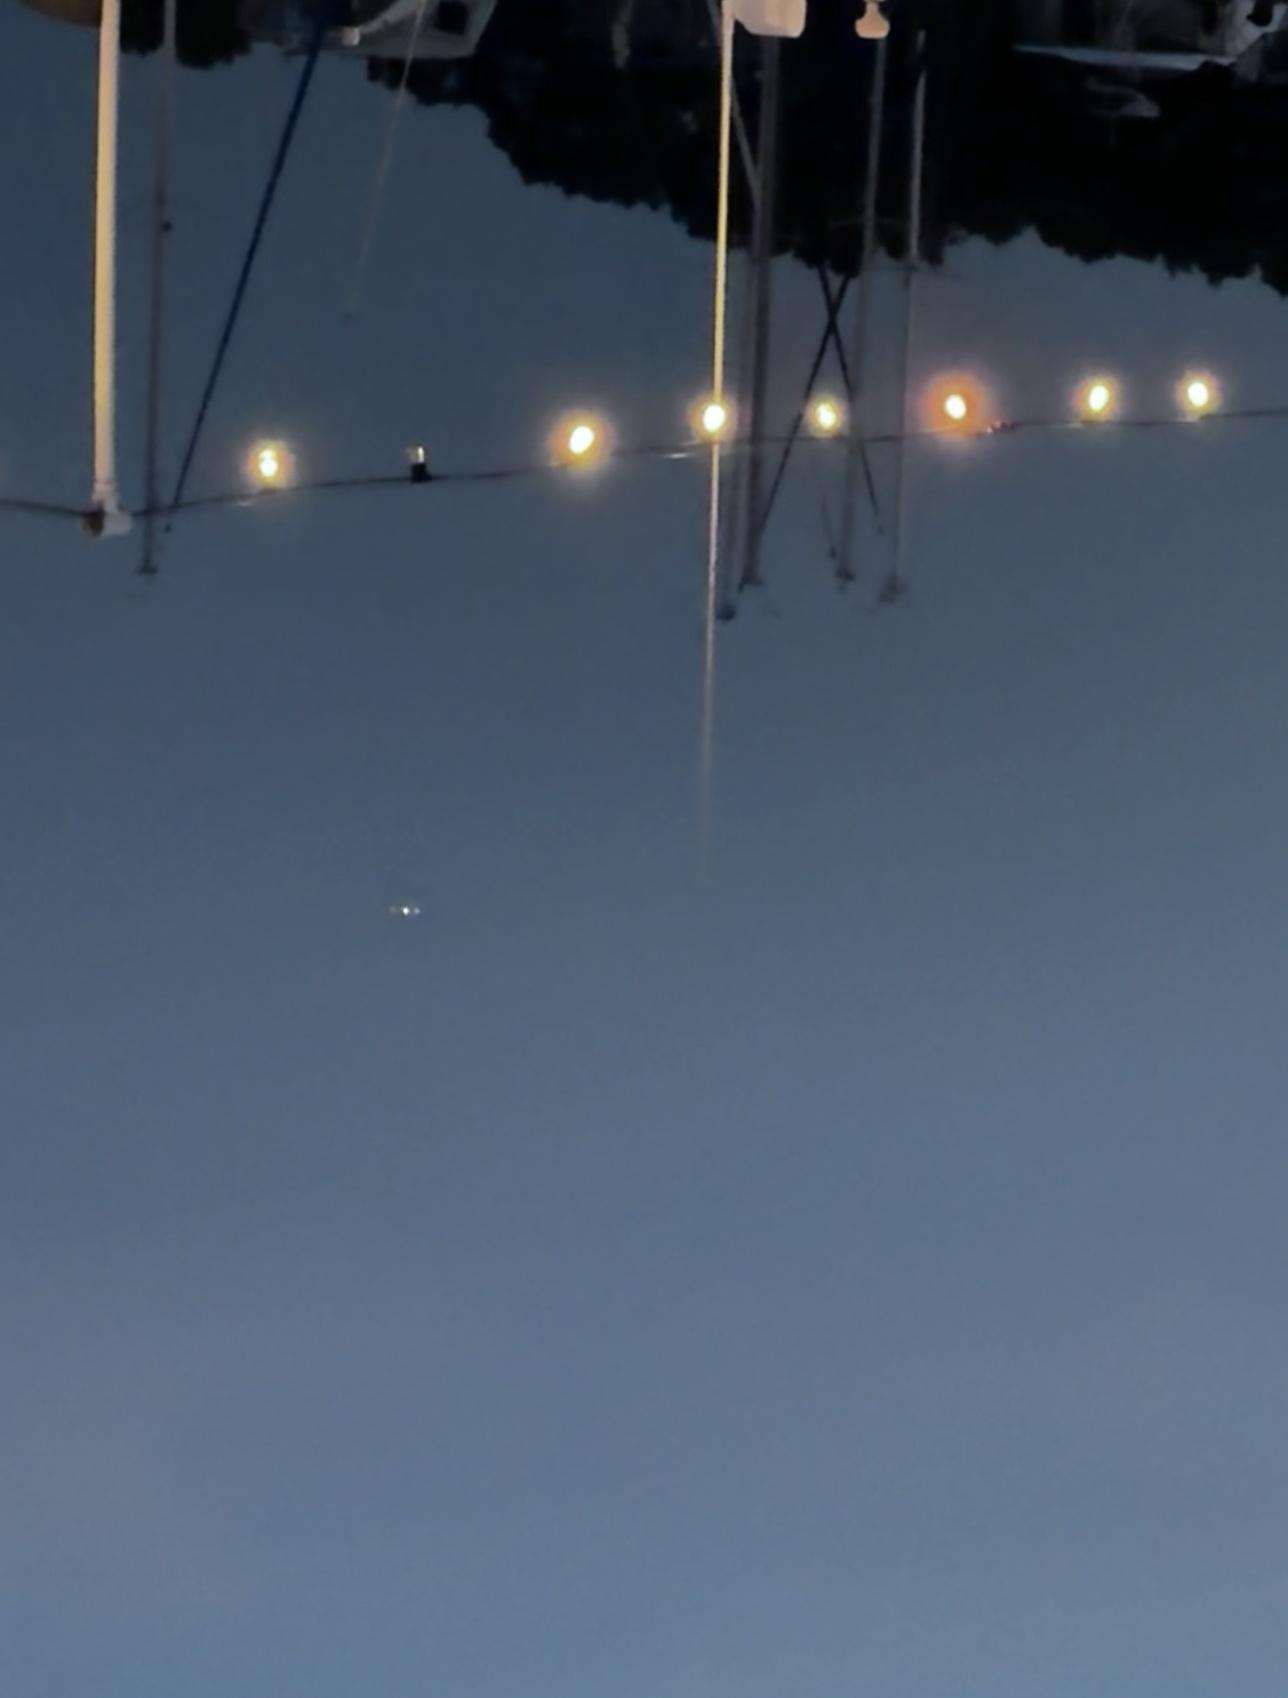Plane: (386, 892, 432, 923)
